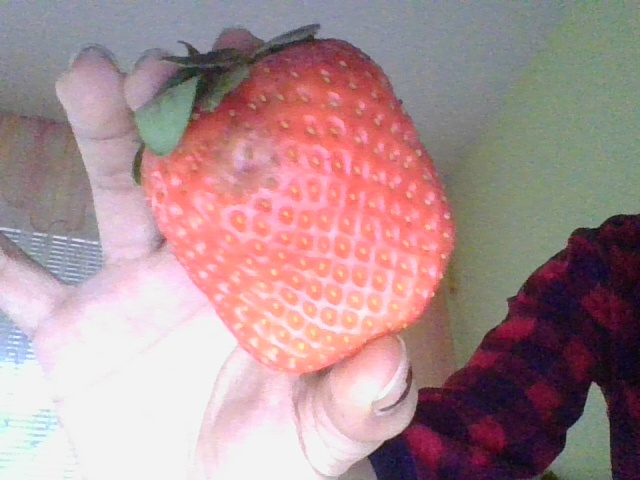ripe: (127, 37, 454, 376)
